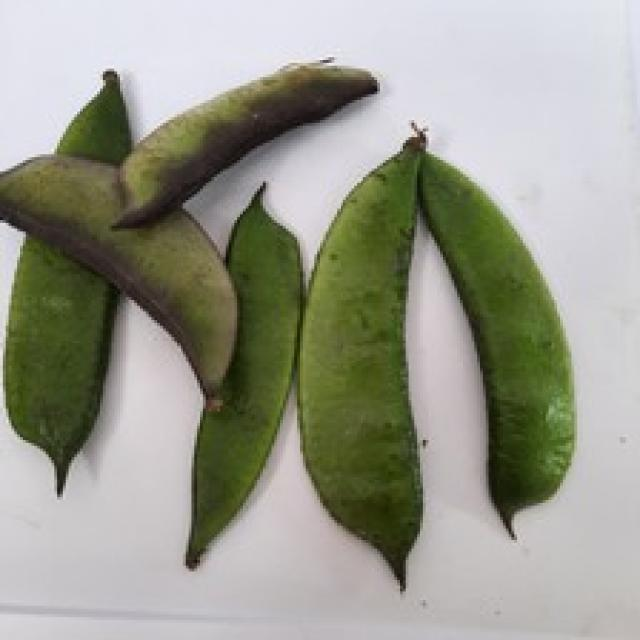Bean: (0, 54, 577, 589), (417, 137, 574, 537), (294, 120, 426, 591), (0, 148, 237, 406), (0, 65, 131, 494), (183, 177, 303, 569), (112, 54, 377, 229)
